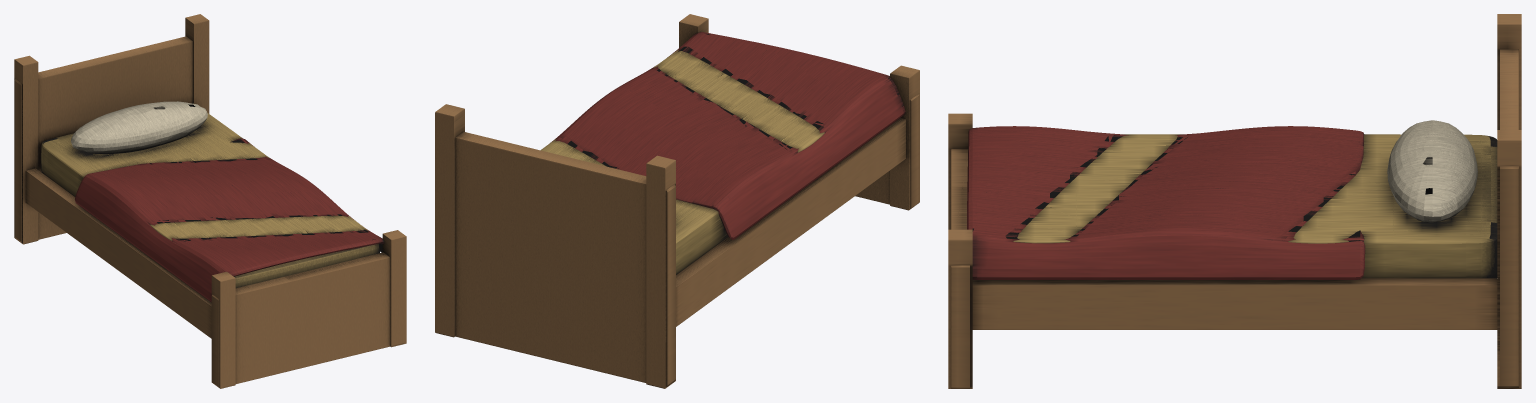
Rendered from movel_cama.glb.
3 views of the same model, side by side, from view 1: azimuth 30°, elevation 25°; view 2: azimuth 150°, elevation 25°; view 3: azimuth 270°, elevation 25° (orthographic). The views are drawn at different scales.
Visible parts, largest first — view 1: movel_cama; view 2: movel_cama; view 3: movel_cama.
Boxes of the visible parts, bbox=[...] form: movel_cama: bbox=[14, 14, 406, 388]; movel_cama: bbox=[435, 14, 919, 388]; movel_cama: bbox=[948, 14, 1521, 388].
Size of the model in its own units: 1.1 by 1 by 2.09.
1 material, 1 textured.
